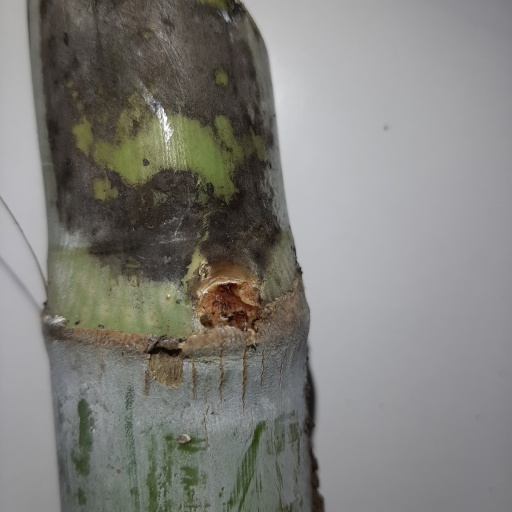Damage_Bud: (197, 264, 261, 324)
